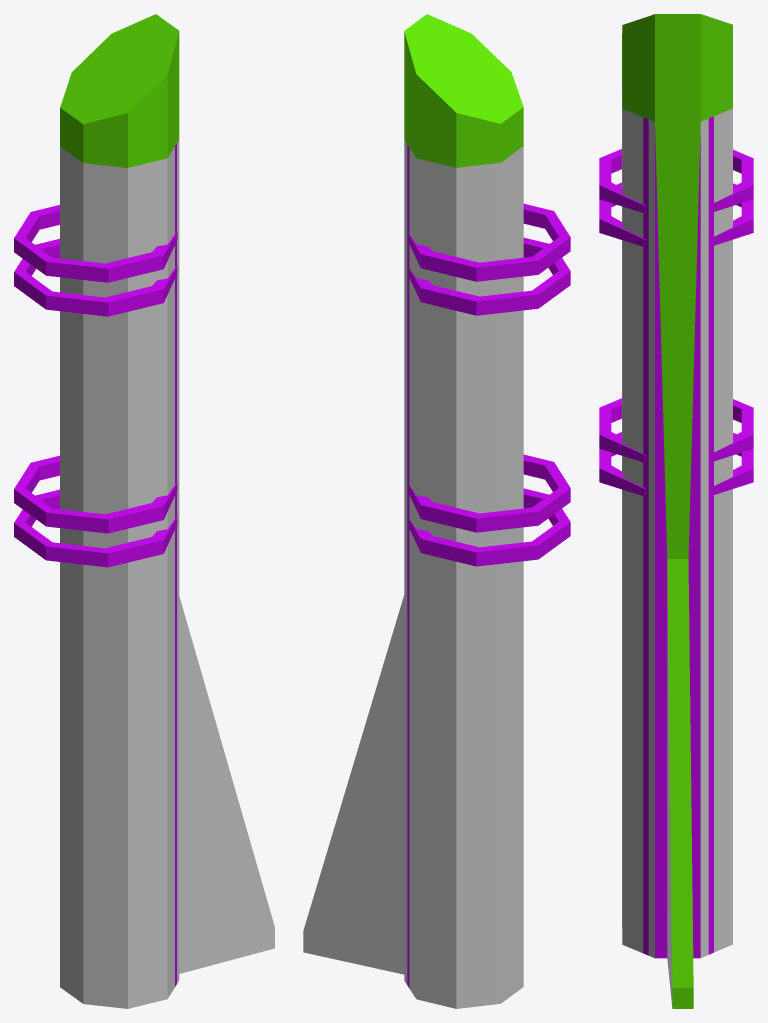
File: missile_lv6.fbx
The picture shows the model from 3 angles, left to right: view 1: azimuth 30°, elevation 25°; view 2: azimuth 150°, elevation 25°; view 3: azimuth 270°, elevation 25°; orthographic projection.
Visible parts, largest first — view 1: missile_lv6; view 2: missile_lv6; view 3: missile_lv6.
Part boxes in pixels (x1,y1,x2,y2): missile_lv6: (14, 14, 274, 1008); missile_lv6: (303, 14, 570, 1008); missile_lv6: (599, 14, 753, 1008).
Bounding box in the file's own units: 66.1 × 247 × 36.57.
